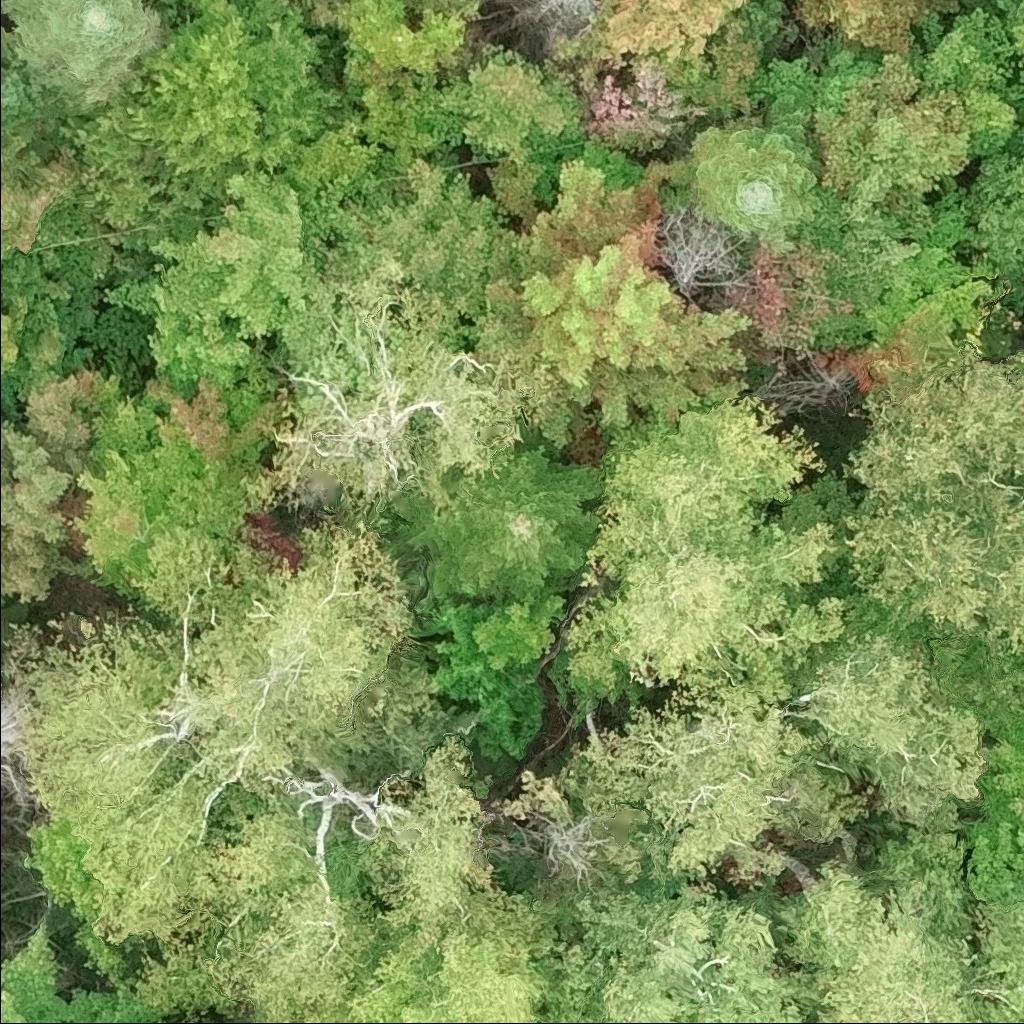crown: (0, 517, 417, 949), (563, 388, 854, 719), (50, 0, 358, 256), (841, 343, 1023, 734), (344, 728, 574, 1023), (481, 213, 755, 438), (557, 694, 871, 884), (102, 170, 326, 402), (807, 6, 1021, 234), (67, 376, 287, 586), (771, 825, 982, 1023), (384, 420, 605, 606), (797, 628, 993, 835), (539, 883, 811, 1023), (399, 566, 571, 763), (232, 837, 385, 1023), (549, 0, 764, 126), (369, 143, 518, 312), (433, 40, 588, 199), (482, 134, 673, 261), (657, 113, 824, 256), (867, 206, 995, 366), (0, 0, 163, 112), (0, 915, 167, 1023), (0, 415, 80, 607), (126, 522, 238, 634), (0, 240, 77, 401), (0, 126, 85, 262), (955, 135, 1023, 287), (789, 0, 961, 54), (661, 205, 742, 302), (966, 897, 1023, 1023), (0, 36, 61, 140), (0, 666, 31, 804), (509, 0, 593, 45), (997, 0, 1023, 67), (402, 0, 471, 12), (186, 1011, 224, 1023), (1015, 722, 1023, 749), (146, 0, 177, 5), (141, 1019, 172, 1023), (0, 927, 1, 940)
